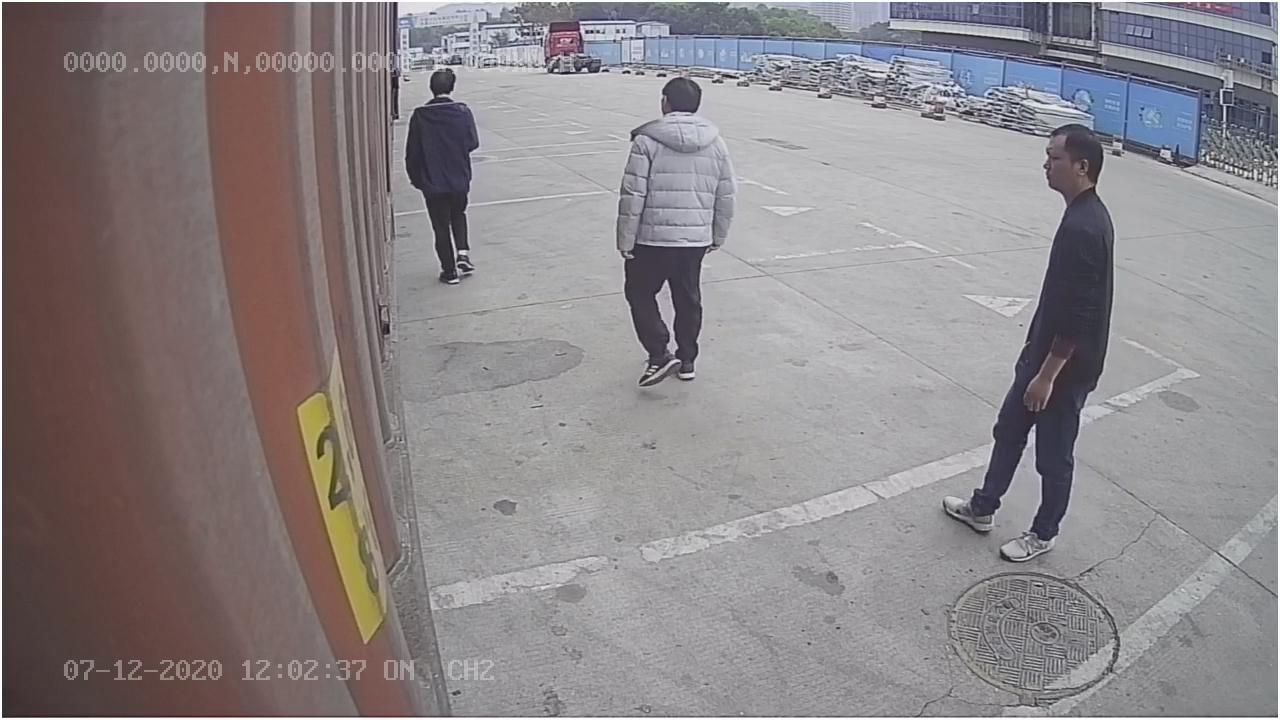person: (936, 113, 1115, 562), (614, 72, 736, 393), (399, 65, 487, 297)
